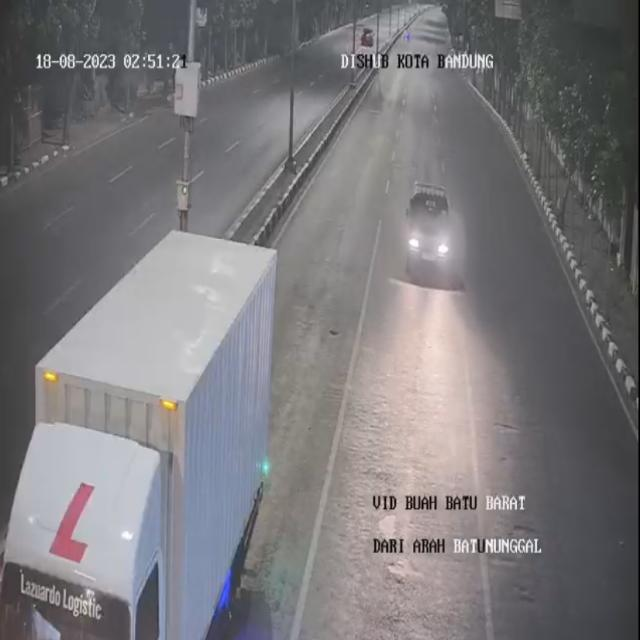cars: (398, 174, 457, 289)
truck: (0, 225, 284, 640)
